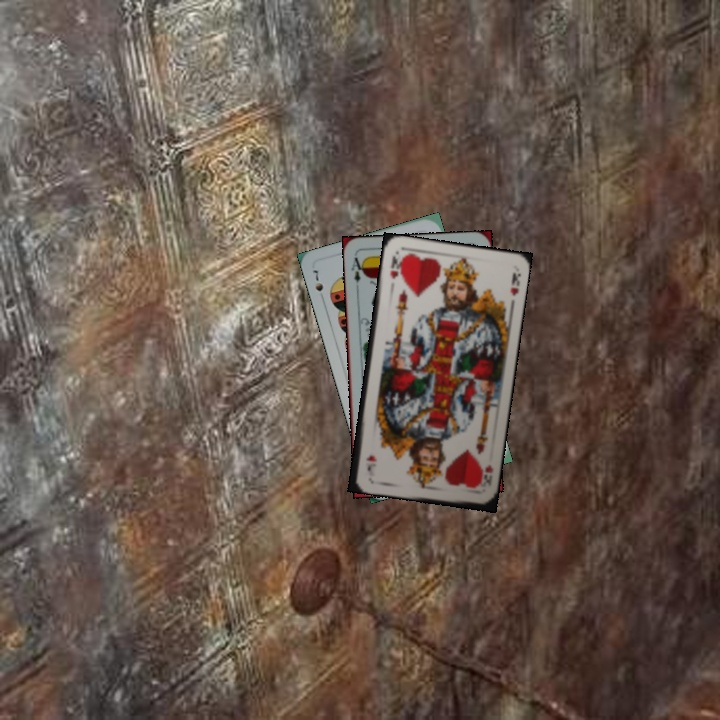EA: (347, 253, 367, 292)
HK: (474, 459, 496, 489), (386, 250, 405, 281)
S7: (309, 266, 327, 304)
